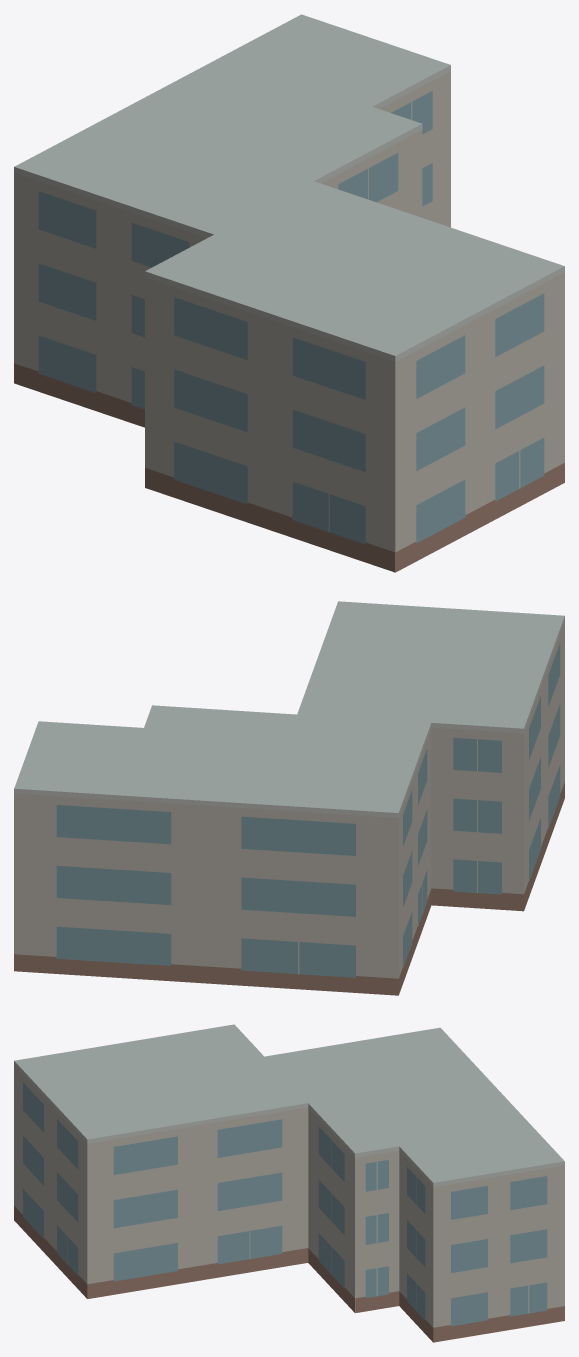
File: survey-upis-32967832.glb
The picture shows the model from 3 angles, top to bottom: view 1: azimuth 30°, elevation 25°; view 2: azimuth 150°, elevation 25°; view 3: azimuth 270°, elevation 25°; orthographic projection. The views are drawn at different scales.
Visible parts, largest first — view 1: survey-upis-32967832.tmp; view 2: survey-upis-32967832.tmp; view 3: survey-upis-32967832.tmp.
Part boxes in pixels (x1,y1,x2,y2): survey-upis-32967832.tmp: (14, 14, 564, 572); survey-upis-32967832.tmp: (14, 601, 564, 995); survey-upis-32967832.tmp: (14, 1024, 564, 1342).
Size of the model in its own units: 19.51 by 9.15 by 28.63.
